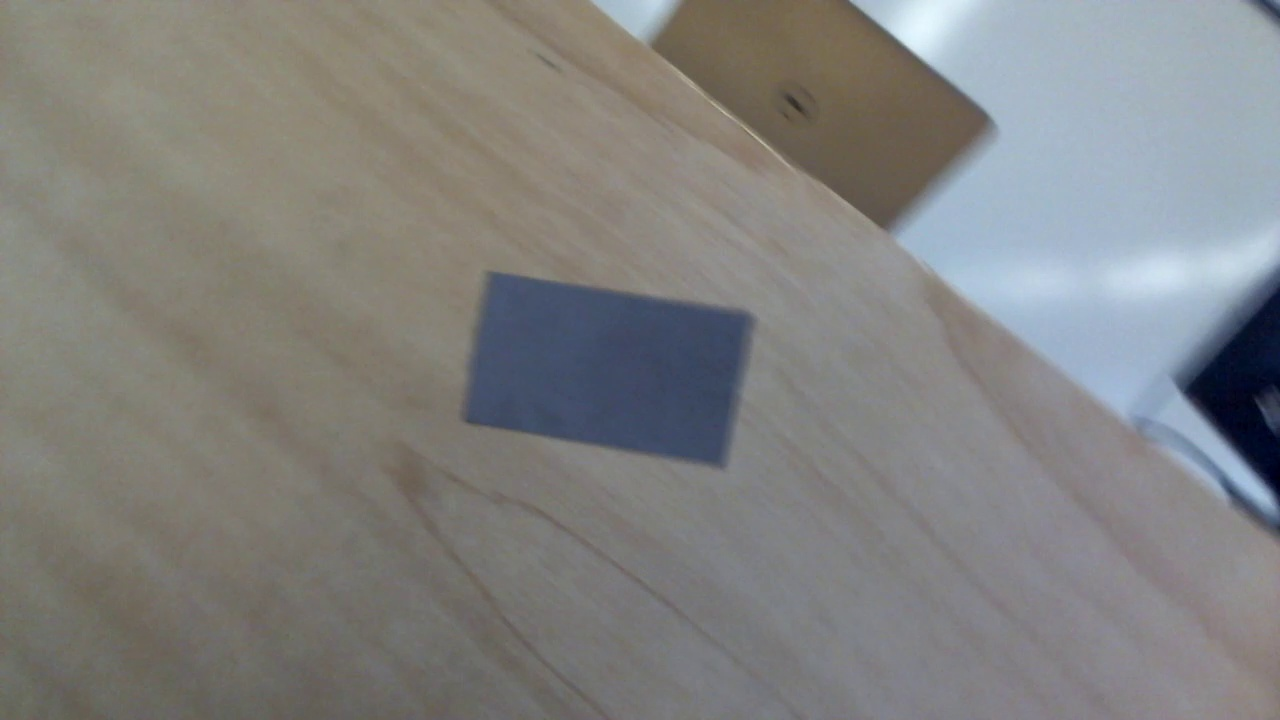Tape: (462, 271, 754, 470)
